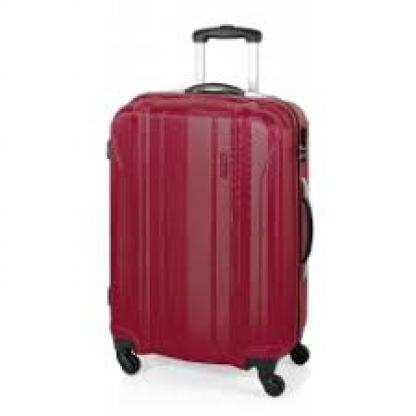maleta: (92, 74, 344, 401)
